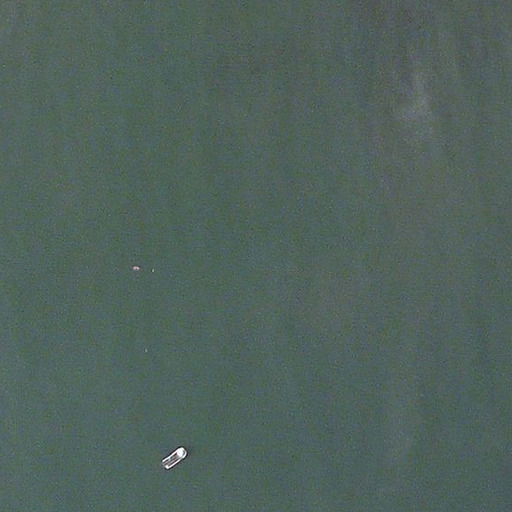ship: (157, 445, 190, 472)
